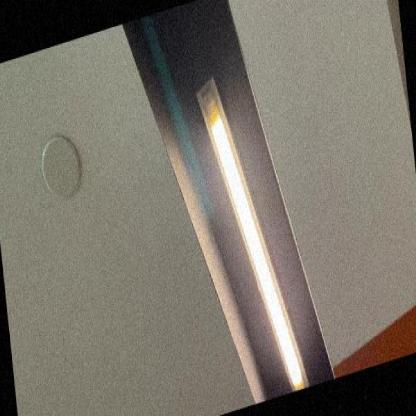light_on: (184, 44, 314, 416)
